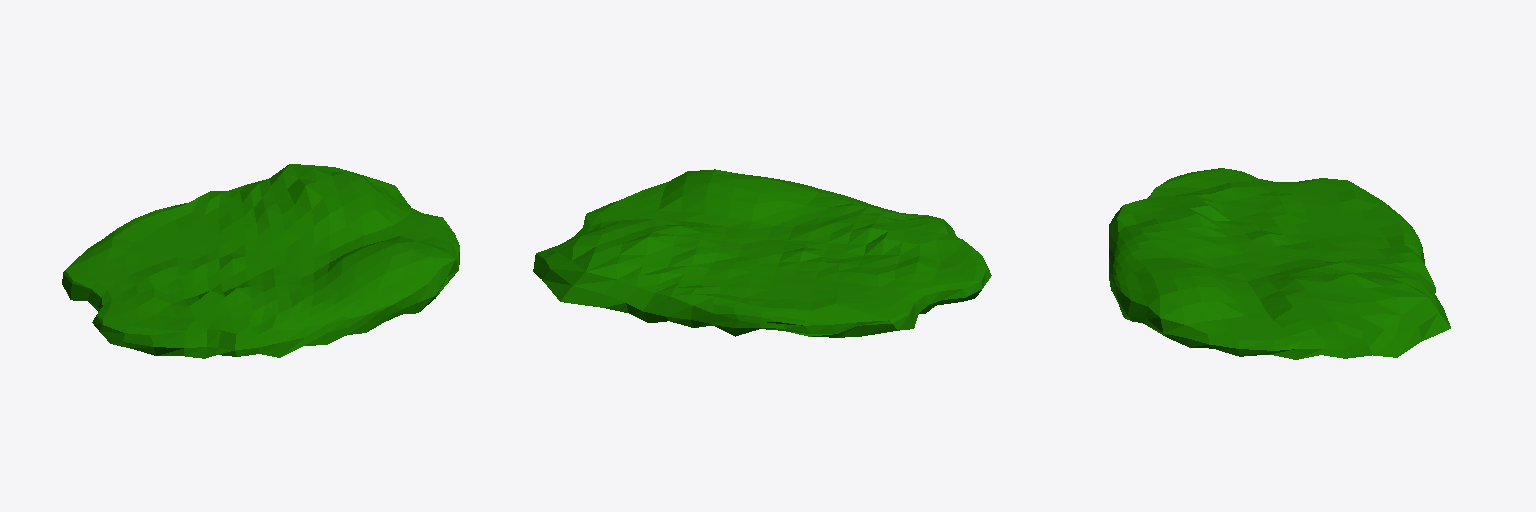
Rendered from IslandMainGrass.obj.
The picture shows the model from 3 angles: view 1: azimuth 30°, elevation 25°; view 2: azimuth 150°, elevation 25°; view 3: azimuth 270°, elevation 25°; orthographic projection.
Parts seen in each view (by area): view 1: IslandCloudFactoryGrass1 IslandCloudFactory1 ArchipelagoCloudFac; view 2: IslandCloudFactoryGrass1 IslandCloudFactory1 ArchipelagoCloudFac; view 3: IslandCloudFactoryGrass1 IslandCloudFactory1 ArchipelagoCloudFac.
Part boxes in pixels (x1,y1,x2,y2): IslandCloudFactoryGrass1 IslandCloudFactory1 ArchipelagoCloudFac: (62,164,459,358); IslandCloudFactoryGrass1 IslandCloudFactory1 ArchipelagoCloudFac: (533,169,991,337); IslandCloudFactoryGrass1 IslandCloudFactory1 ArchipelagoCloudFac: (1109,168,1450,359).
Bounding box in the file's own units: 95.23 × 11.77 × 76.11.